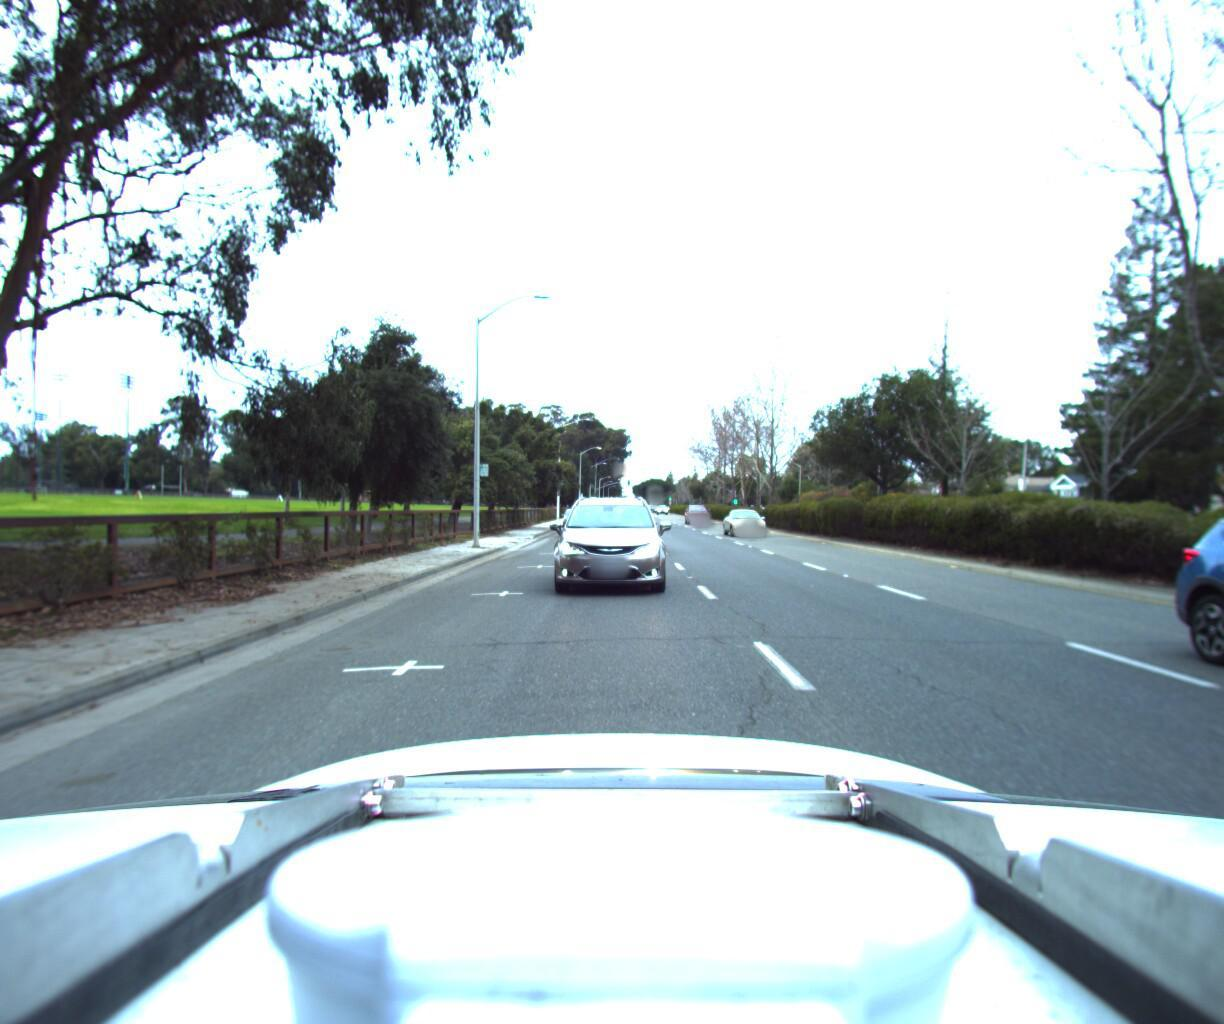bicycle: (0, 459, 11, 550)
car: (547, 488, 667, 597), (725, 502, 772, 533), (682, 497, 710, 518)
